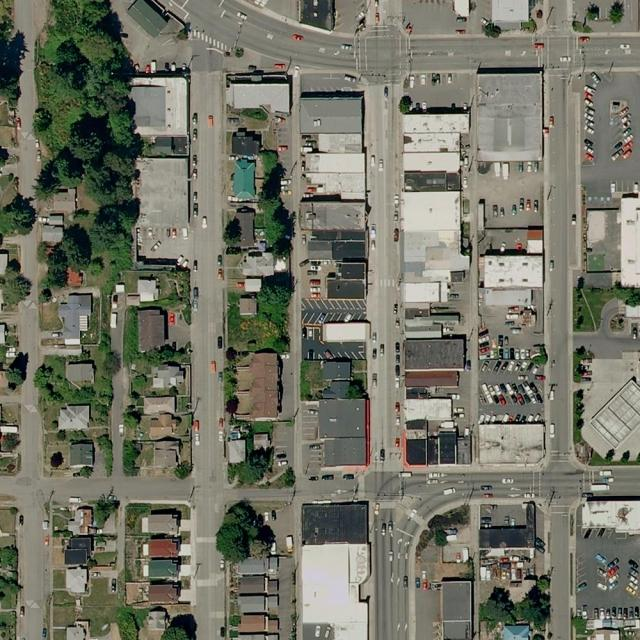building: (401, 189, 471, 340), (301, 544, 369, 639), (477, 67, 543, 161), (402, 107, 469, 191), (141, 508, 181, 605), (138, 159, 189, 227), (131, 76, 188, 136), (238, 556, 279, 639), (319, 399, 368, 466), (301, 501, 369, 546), (236, 351, 279, 420), (479, 501, 537, 549), (479, 424, 545, 464), (300, 97, 363, 134), (54, 291, 93, 347), (586, 209, 620, 272), (405, 337, 465, 370), (484, 255, 543, 288), (300, 201, 365, 230), (124, 0, 172, 39), (227, 84, 290, 113), (443, 580, 473, 640), (306, 172, 365, 199), (479, 525, 535, 549), (224, 206, 255, 249), (137, 307, 166, 352), (305, 152, 365, 173), (405, 397, 453, 421), (37, 212, 68, 247), (405, 370, 459, 388), (322, 322, 370, 342), (232, 159, 255, 200), (231, 127, 263, 156), (241, 250, 274, 278), (152, 437, 180, 469), (67, 504, 94, 537), (317, 134, 363, 153), (63, 537, 94, 565), (50, 186, 79, 215), (484, 289, 532, 306), (57, 405, 89, 430), (152, 365, 185, 389), (150, 136, 189, 156), (326, 279, 365, 299), (331, 240, 364, 261), (310, 229, 365, 241), (321, 360, 352, 381), (124, 581, 151, 605), (143, 396, 177, 415), (65, 566, 88, 594), (150, 414, 176, 438), (437, 431, 456, 463), (405, 439, 428, 465), (65, 362, 94, 382), (307, 239, 333, 260), (322, 380, 350, 399), (137, 277, 159, 301), (70, 442, 92, 466), (403, 420, 428, 441), (228, 439, 246, 464), (589, 625, 621, 639), (339, 262, 365, 279), (65, 267, 84, 287), (239, 296, 258, 316), (252, 432, 270, 450), (454, 0, 470, 18), (526, 239, 544, 254), (405, 419, 428, 430), (243, 279, 261, 293), (623, 305, 640, 319), (0, 250, 9, 274), (126, 294, 142, 307), (0, 370, 9, 389), (0, 425, 19, 434), (109, 312, 118, 328), (0, 322, 6, 345), (114, 282, 125, 294)
greenland: (34, 0, 140, 206), (26, 198, 152, 301), (202, 496, 284, 578), (23, 351, 100, 425), (226, 270, 293, 353), (251, 147, 297, 259), (480, 575, 550, 630), (574, 281, 640, 331), (222, 441, 283, 494), (92, 331, 117, 426), (0, 174, 37, 236), (0, 257, 37, 309), (0, 545, 20, 639), (0, 349, 38, 393), (84, 489, 123, 530), (159, 270, 189, 322), (92, 428, 122, 476), (562, 343, 596, 382), (124, 345, 189, 365), (124, 306, 140, 366), (122, 439, 141, 476), (574, 389, 585, 429)
metalled_road: (190, 41, 226, 640), (544, 72, 580, 458), (410, 30, 640, 74), (297, 401, 368, 504), (399, 469, 585, 507), (576, 528, 640, 620), (371, 508, 409, 640), (46, 476, 193, 504), (110, 294, 130, 478), (550, 506, 571, 639), (402, 0, 465, 35), (228, 487, 294, 505), (275, 115, 293, 177), (277, 356, 294, 421), (363, 471, 400, 500), (272, 422, 294, 468), (610, 466, 640, 495)
